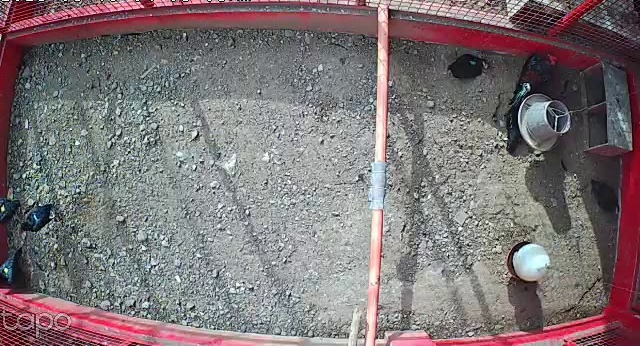Chicken: (500, 93, 537, 154), (584, 172, 621, 217), (446, 53, 491, 82), (0, 244, 27, 287), (21, 201, 55, 232), (0, 192, 23, 229), (0, 205, 6, 213)
Rooster: (509, 50, 558, 111)
Saddle_Color_Blue: (34, 214, 38, 221)
Saddle_Color_YellowGreen: (3, 267, 9, 276)
